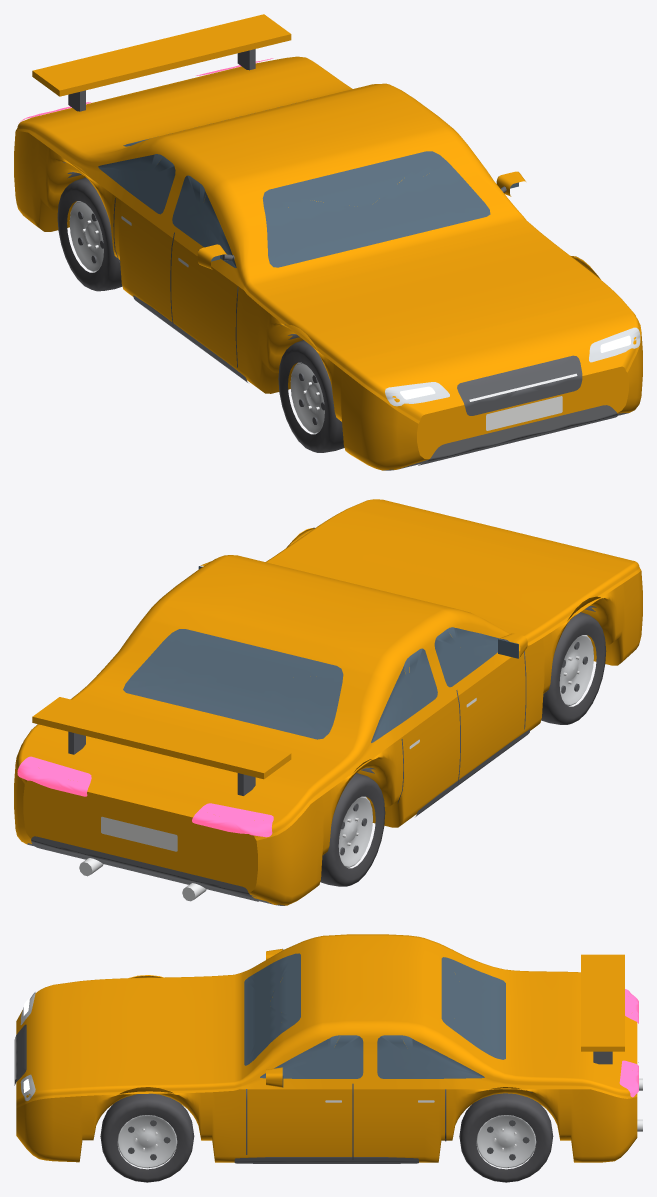
File: car-sports.glb
3 renders of one model, top to bottom at view 1: azimuth 30°, elevation 25°; view 2: azimuth 150°, elevation 25°; view 3: azimuth 270°, elevation 25°, orthographic. The views are drawn at different scales.
Parts seen in each view (by area): view 1: car-sports; view 2: car-sports; view 3: car-sports.
Boxes of the visible parts, left/top/right/bottom form: car-sports: left=14, top=14, right=642, bottom=470; car-sports: left=14, top=499, right=642, bottom=905; car-sports: left=14, top=934, right=642, bottom=1182.
Bounding box in the file's own units: 2.19 × 1.22 × 4.56.
